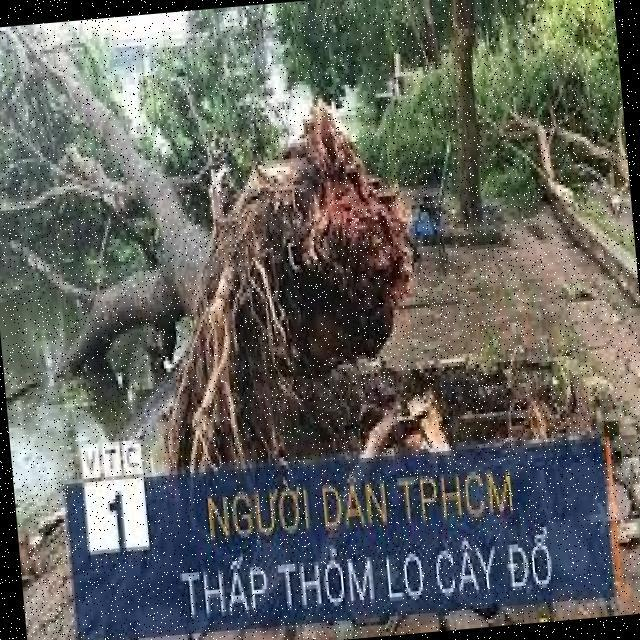fallen_object: (0, 0, 433, 490), (521, 92, 631, 212)
